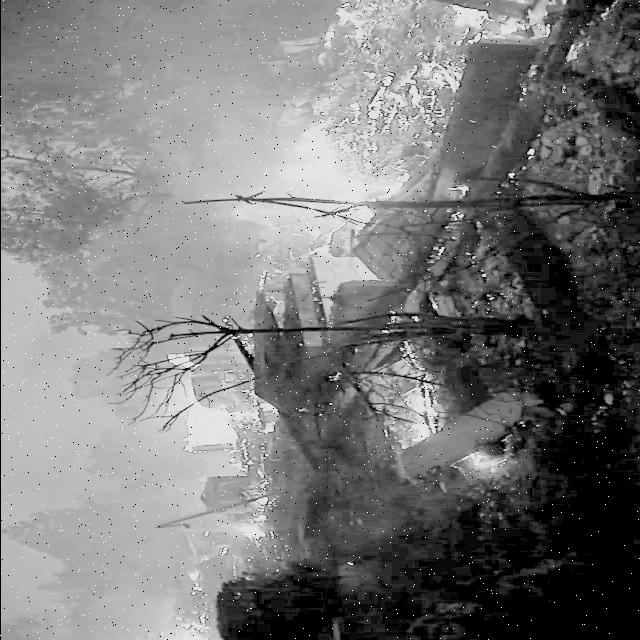api: (281, 133, 368, 207), (370, 171, 416, 204), (410, 392, 436, 448), (441, 5, 497, 31), (235, 525, 263, 543), (334, 7, 362, 25)
